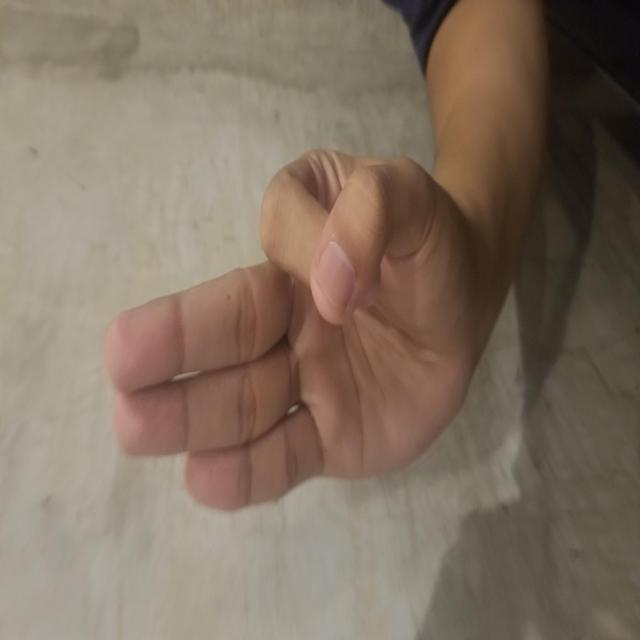F: (127, 100, 496, 470)
